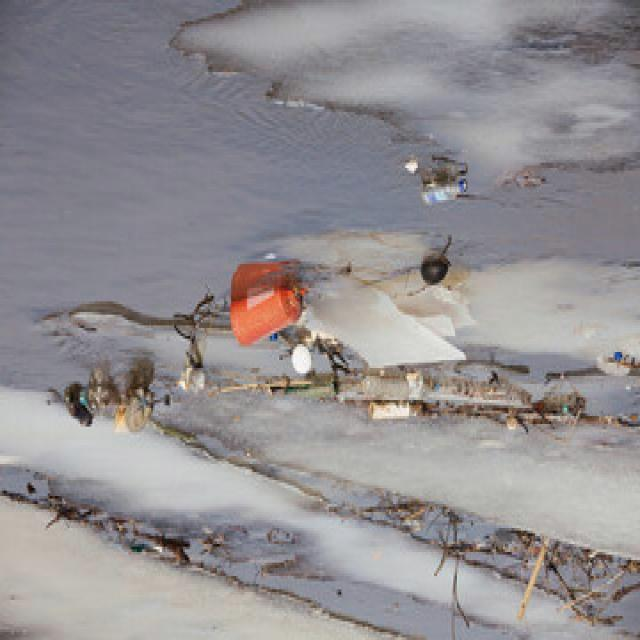Plastic: (223, 283, 305, 351), (420, 170, 471, 210)
Trash: (110, 390, 156, 436), (358, 399, 429, 425), (59, 387, 97, 431), (598, 345, 640, 378), (178, 362, 212, 393), (289, 336, 315, 376), (416, 257, 450, 285)
